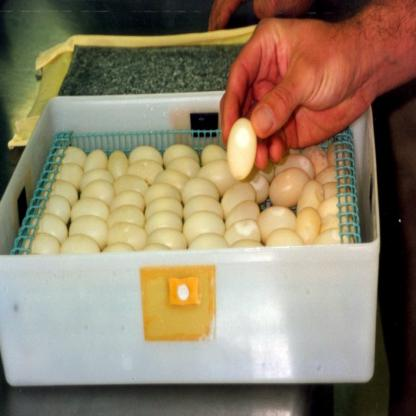Egg: (23, 117, 353, 252)
